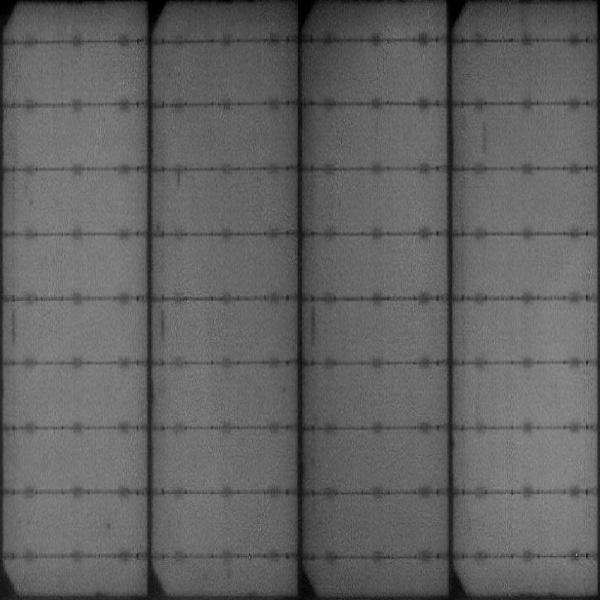scratch: (309, 303, 320, 347), (8, 308, 20, 344)
